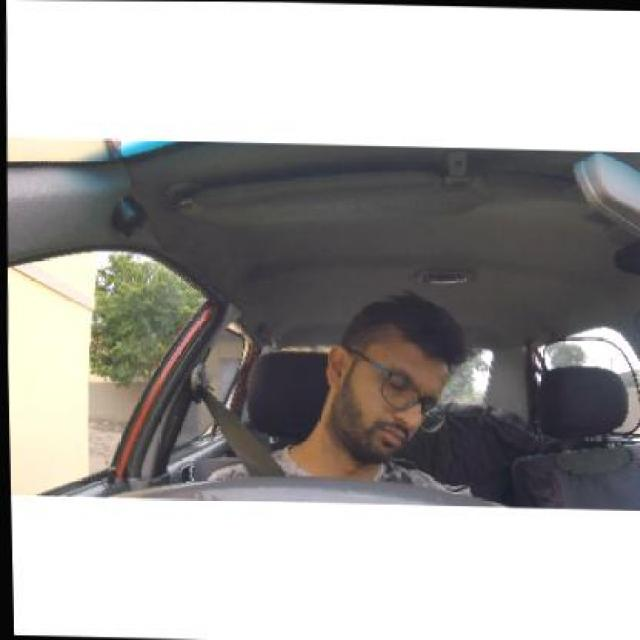drowsy: (323, 296, 452, 462)
